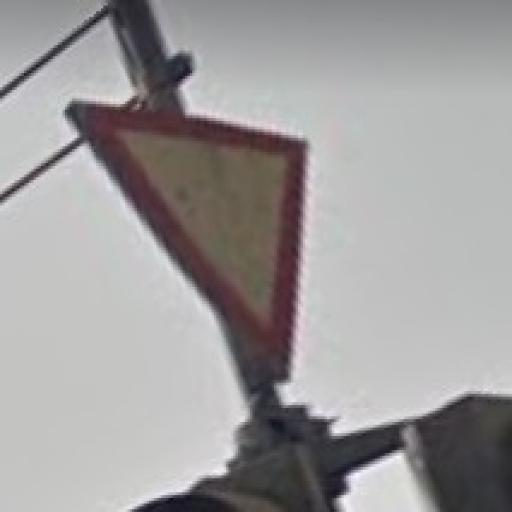traffic_sign: (68, 97, 309, 384)
